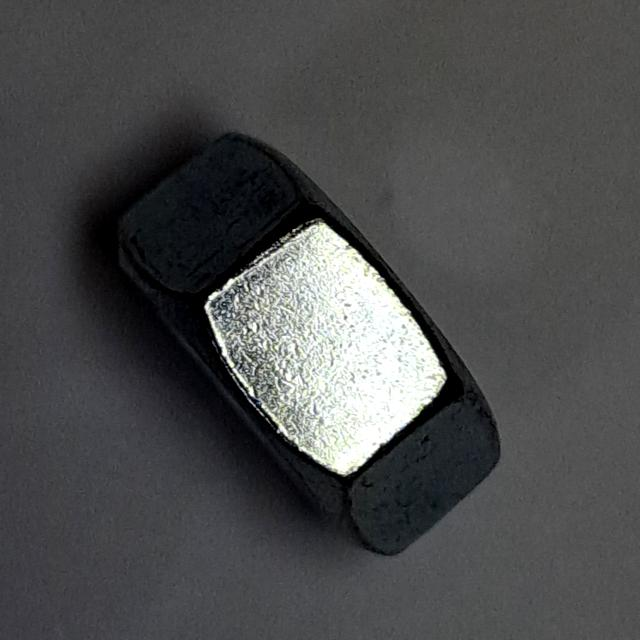Side_Excellent: (100, 120, 516, 566)
